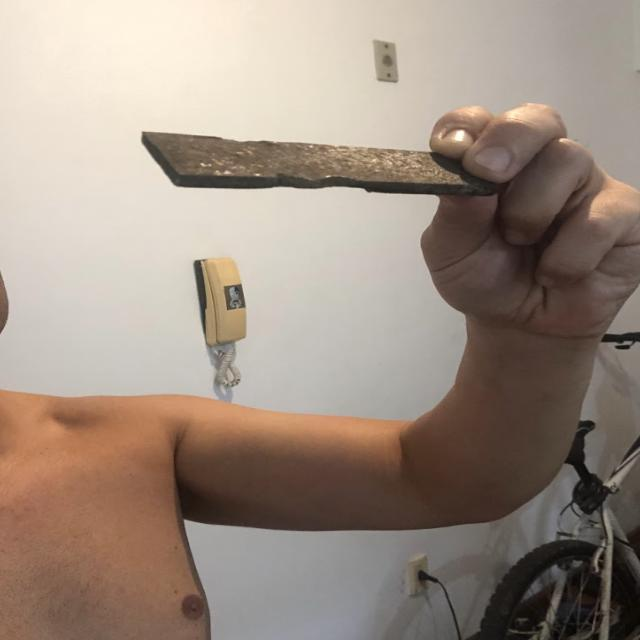Corrosion: (139, 131, 496, 194)
